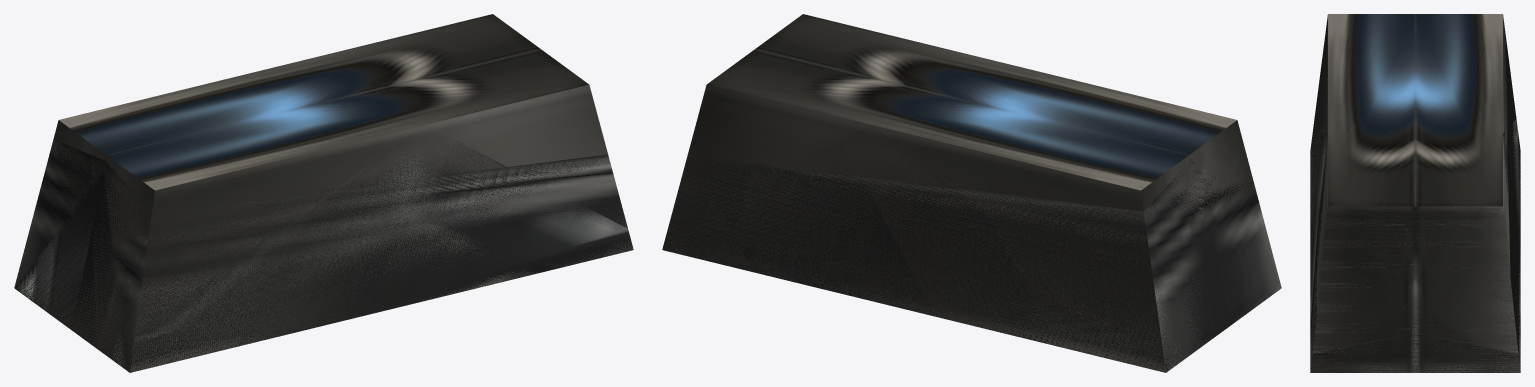
Rendered from 18_sword_morph_fbx.FBX.
The picture shows the model from 3 angles, left to right: view 1: azimuth 30°, elevation 25°; view 2: azimuth 150°, elevation 25°; view 3: azimuth 270°, elevation 25°; orthographic projection. The views are drawn at different scales.
Parts seen in each view (by area): view 1: 18_sword; view 2: 18_sword; view 3: 18_sword.
Part boxes in pixels (<box>): 18_sword: <box>14,14,633,372</box>; 18_sword: <box>662,14,1281,372</box>; 18_sword: <box>1310,14,1520,372</box>.
Bounding box in the file's own units: 30.8 × 9.75 × 12.26.
